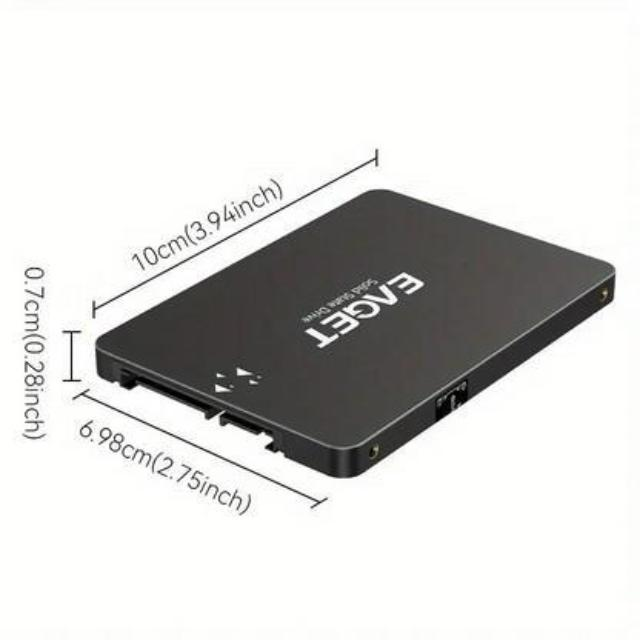DISK: (89, 185, 614, 478)
